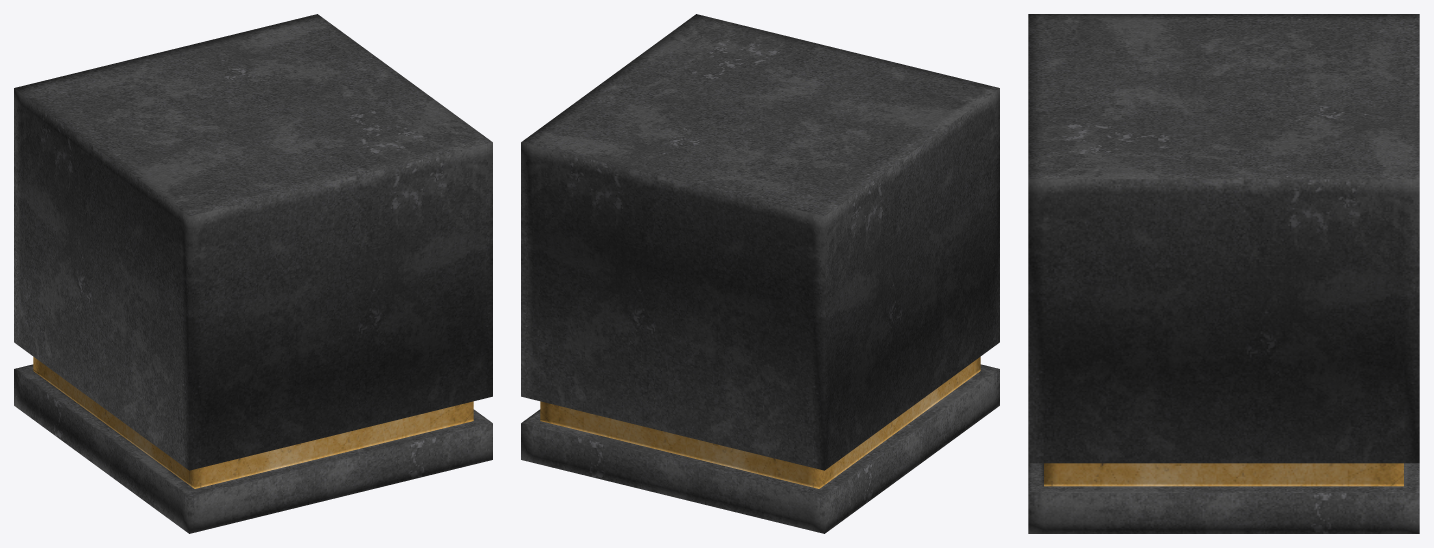
Rendered from Amulet.Box.fbx.
3 views of the same model, side by side, from view 1: azimuth 30°, elevation 25°; view 2: azimuth 150°, elevation 25°; view 3: azimuth 270°, elevation 25° (orthographic). The views are drawn at different scales.
Parts seen in each view (by area): view 1: Cube; view 2: Cube; view 3: Cube.
Part boxes in pixels (bbox=[...]): Cube: bbox=[14, 14, 492, 533]; Cube: bbox=[521, 14, 999, 533]; Cube: bbox=[1028, 14, 1419, 533].
Bounding box in the file's own units: 50 × 50 × 50.
